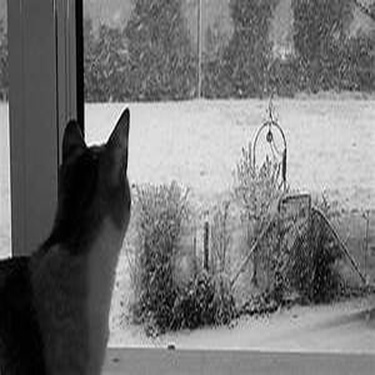cat: (5, 105, 131, 371)
